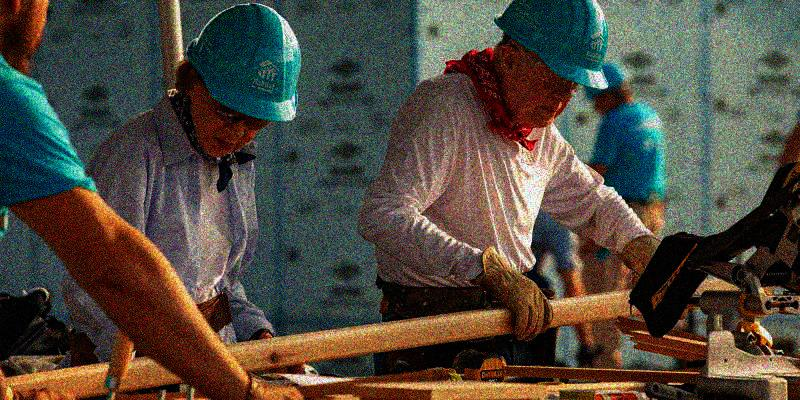helmet: (176, 1, 306, 162), (493, 1, 613, 127), (578, 59, 635, 114)
